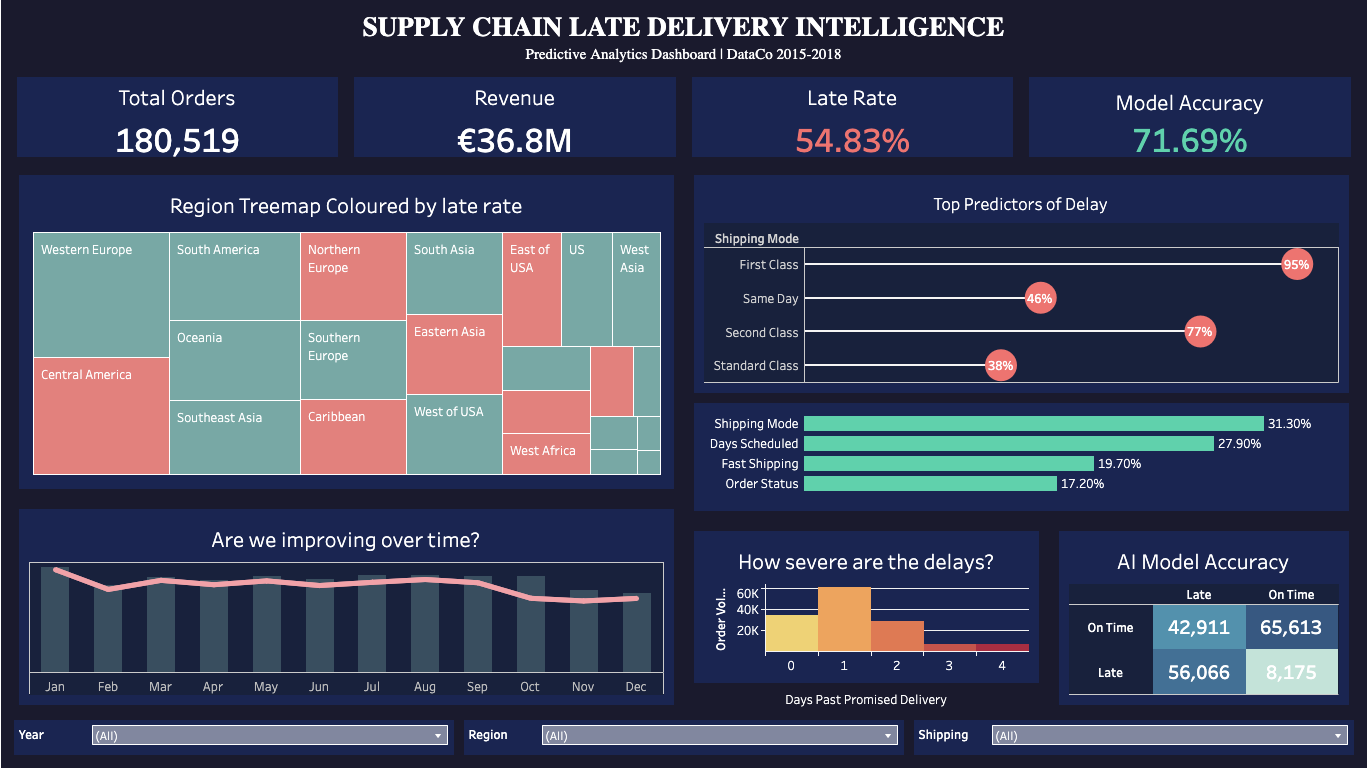

The page's visual inventory and layout, read from the dashboard file:
{"tool":"tableau","page":{"name":"Dashboard 2","canvas":[1366,768],"ordinal":1},"visuals":[{"type":"text","box":[8,8,1350,61.5]},{"type":"worksheet","title":"Total Orders","mark":"Automatic","box":[8,69.5,337.5,105.6]},{"type":"worksheet","title":"Revenue","mark":"Automatic","box":[345.5,69.5,337.5,105.6]},{"type":"worksheet","title":"Late Rate","mark":"Automatic","box":[683,69.5,337.5,105.6]},{"type":"worksheet","title":"Model Accuracy","mark":"Automatic","box":[1020,70,338,105]},{"type":"worksheet","title":"Region Treemap","mark":"Automatic","box":[8,175.2,675,314.9]},{"type":"worksheet","title":"Lollipop Chart","mark":"Automatic","rows":["shipping_mode"],"cols":["late_delivery_risk","late_delivery_risk"],"box":[683,175.2,675,186.9]},{"type":"worksheet","title":"Sheet 16","mark":"Bar","rows":["Feature"],"cols":["Importance"],"box":[683,362.1,675,128]},{"type":"worksheet","title":"Trend Combo","mark":"Automatic","rows":["sales","late_delivery_risk"],"cols":["order_date"],"box":[8,490.1,675,211.9]},{"type":"worksheet","title":"Delay Distribution","mark":"Bar","rows":["tableau_export.csv_1B0BE3AEF98044E0997C58625AB2D920"],"cols":["Days Delayed (bin)"],"box":[683,490.1,365,152.9]},{"type":"worksheet","title":"Confusion Matrix","mark":"Square","rows":["late_delivery_predicted"],"box":[1048,490.1,310,211.9]},{"type":"text","box":[683,642.9,365,59.1]},{"type":"filter","title":"Trend Combo","param":"[federated.1bj3u7r1j6vag918zeq6f0jhc1j1].[yr:order_date:ok]","box":[8,702,450,58]},{"type":"filter","title":"Lollipop Chart","param":"[federated.1bj3u7r1j6vag918zeq6f0jhc1j1].[none:customer_region:nk]","box":[458,702,450,58]},{"type":"filter","title":"Lollipop Chart","param":"[federated.1bj3u7r1j6vag918zeq6f0jhc1j1].[none:shipping_mode:nk]","box":[908,702,450,58]}]}

Visuals, with their boxes in screenshot pixels (x1, y1, x2, y2), scaled from the page's 1366x768 canvas onto the 1368x768 screenshot:
text: bbox=[8, 8, 1360, 70]
"Total Orders" worksheet: bbox=[8, 70, 346, 175]
"Revenue" worksheet: bbox=[346, 70, 684, 175]
"Late Rate" worksheet: bbox=[684, 70, 1022, 175]
"Model Accuracy" worksheet: bbox=[1021, 70, 1360, 175]
"Region Treemap" worksheet: bbox=[8, 175, 684, 490]
"Lollipop Chart" worksheet: bbox=[684, 175, 1360, 362]
"Sheet 16" worksheet (Bar marks): bbox=[684, 362, 1360, 490]
"Trend Combo" worksheet: bbox=[8, 490, 684, 702]
"Delay Distribution" worksheet (Bar marks): bbox=[684, 490, 1050, 643]
"Confusion Matrix" worksheet (Square marks): bbox=[1050, 490, 1360, 702]
text: bbox=[684, 643, 1050, 702]
"Trend Combo" filter: bbox=[8, 702, 459, 760]
"Lollipop Chart" filter: bbox=[459, 702, 909, 760]
"Lollipop Chart" filter: bbox=[909, 702, 1360, 760]
